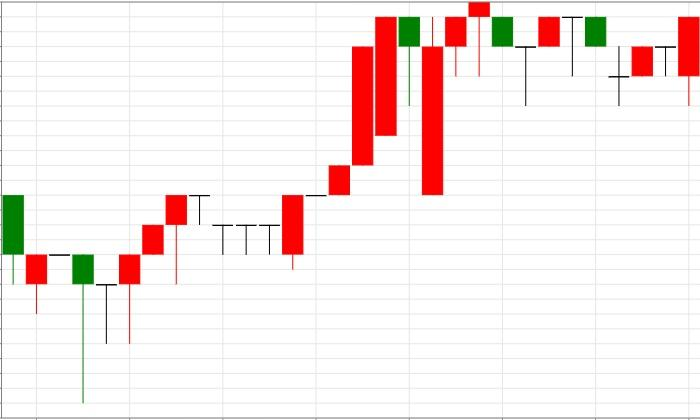hanging_man_fall: (281, 2, 491, 269)
three_white_soldiers_rise: (2, 194, 188, 404)
